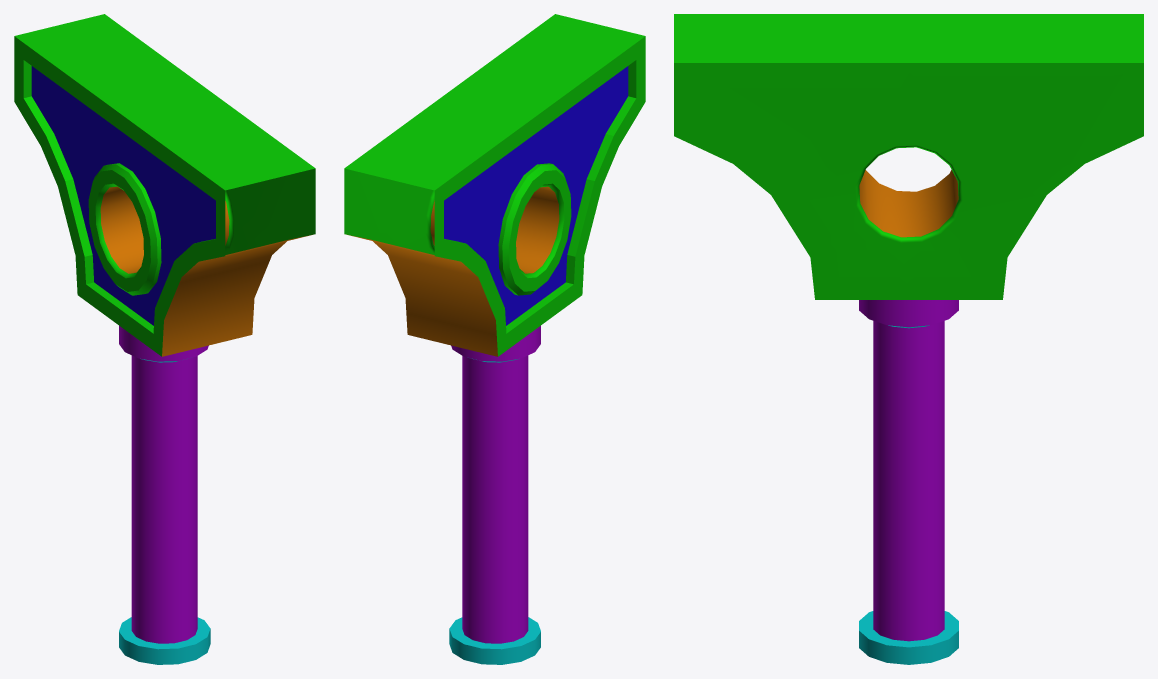
The model's file is SM_Pillar02.fbx.
3 views of the same model, side by side, from view 1: azimuth 30°, elevation 25°; view 2: azimuth 150°, elevation 25°; view 3: azimuth 270°, elevation 25° (orthographic). The views are drawn at different scales.
Parts seen in each view (by area): view 1: mod_03; view 2: mod_03; view 3: mod_03.
Part boxes in pixels (x1,y1,x2,y2): mod_03: [14, 14, 315, 664]; mod_03: [344, 14, 645, 664]; mod_03: [674, 14, 1143, 664].
Size of the model in its own units: 74.24 by 426 by 300.
